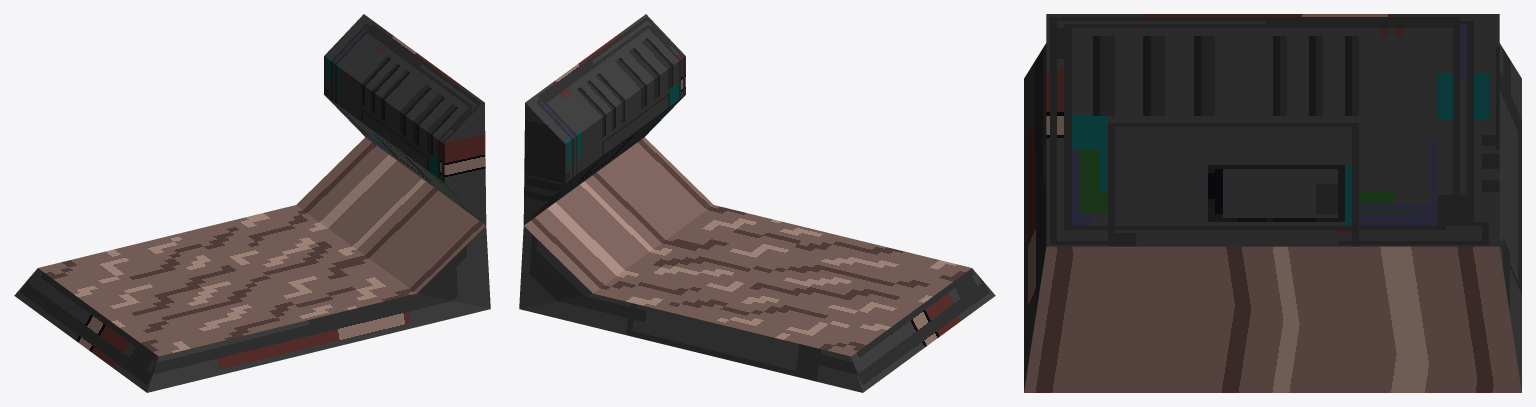
The picture shows the model from 3 angles, left to right: view 1: azimuth 30°, elevation 25°; view 2: azimuth 150°, elevation 25°; view 3: azimuth 270°, elevation 25°; orthographic projection. The views are drawn at different scales.
Parts seen in each view (by area): view 1: ss3d_13_hideaway_bd; view 2: ss3d_13_hideaway_bd; view 3: ss3d_13_hideaway_bd.
Part boxes in pixels (x1,y1,x2,y2): ss3d_13_hideaway_bd: (14,14,490,392); ss3d_13_hideaway_bd: (519,14,995,392); ss3d_13_hideaway_bd: (1024,14,1521,392).
Bounding box in the file's own units: 0.8227 × 0.4605 × 0.5484.
1 material, 1 textured.
